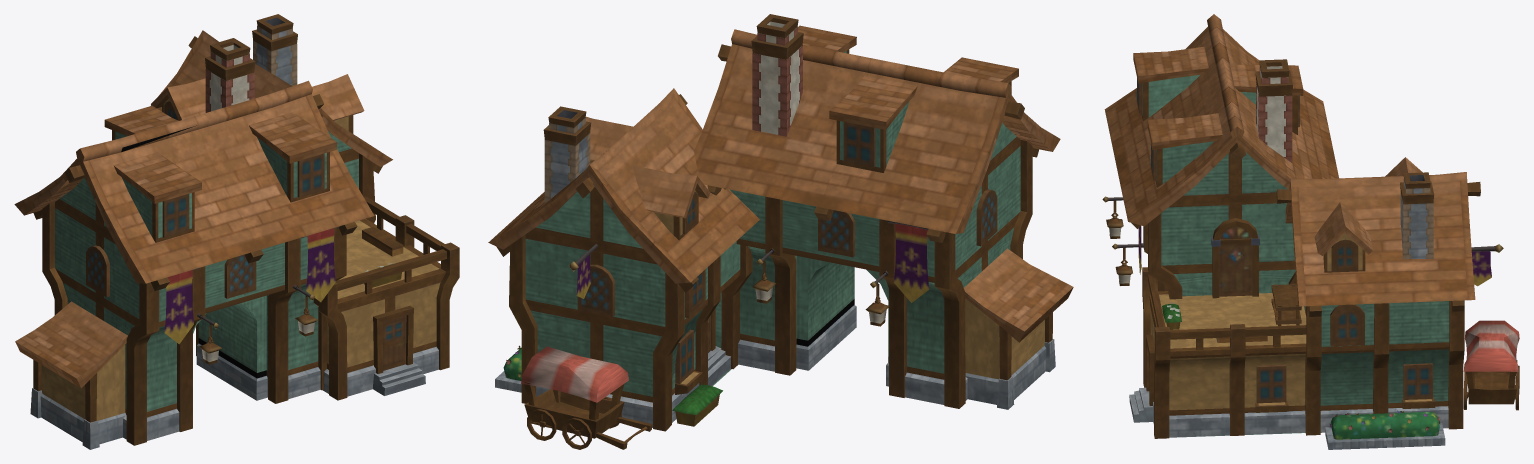
The model's file is HOS0110015.fbx.
The picture shows the model from 3 angles, left to right: view 1: azimuth 30°, elevation 25°; view 2: azimuth 150°, elevation 25°; view 3: azimuth 270°, elevation 25°; orthographic projection. The views are drawn at different scales.
Parts seen in each view (by area): view 1: smHOS0110015; view 2: smHOS0110015; view 3: smHOS0110015.
Part boxes in pixels (x1,y1,x2,y2): smHOS0110015: [14, 14, 459, 449]; smHOS0110015: [488, 14, 1073, 449]; smHOS0110015: [1102, 14, 1519, 449].
Size of what is drawn, in the model's own units: 1295 by 966 by 1215.
Materials: 1 (1 with a texture image).
